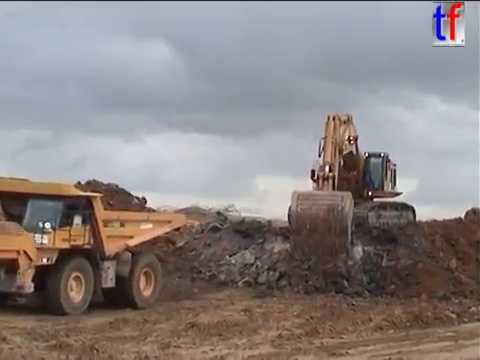excavator: (285, 110, 418, 260)
truck: (1, 175, 188, 317), (1, 217, 39, 298)
